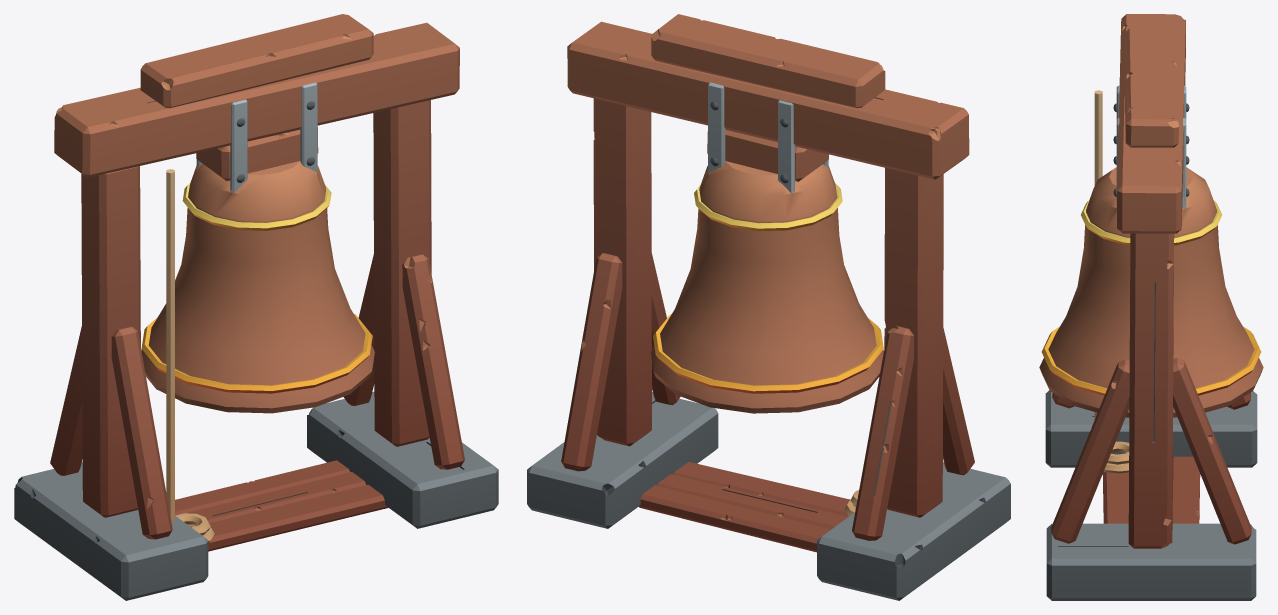
File: church_bell.glb
3 renders of one model, left to right at view 1: azimuth 30°, elevation 25°; view 2: azimuth 150°, elevation 25°; view 3: azimuth 270°, elevation 25°, orthographic. The views are drawn at different scales.
Visible parts, largest first — view 1: church_bell; view 2: church_bell; view 3: church_bell.
Part boxes in pixels (x1=…): church_bell: x1=14, y1=14, x2=498, y2=600; church_bell: x1=527, y1=14, x2=1010, y2=600; church_bell: x1=1039, y1=14, x2=1263, y2=600.
Bounding box in the file's own units: 3.89 × 4.64 × 2.12.
1 material, 1 textured.
